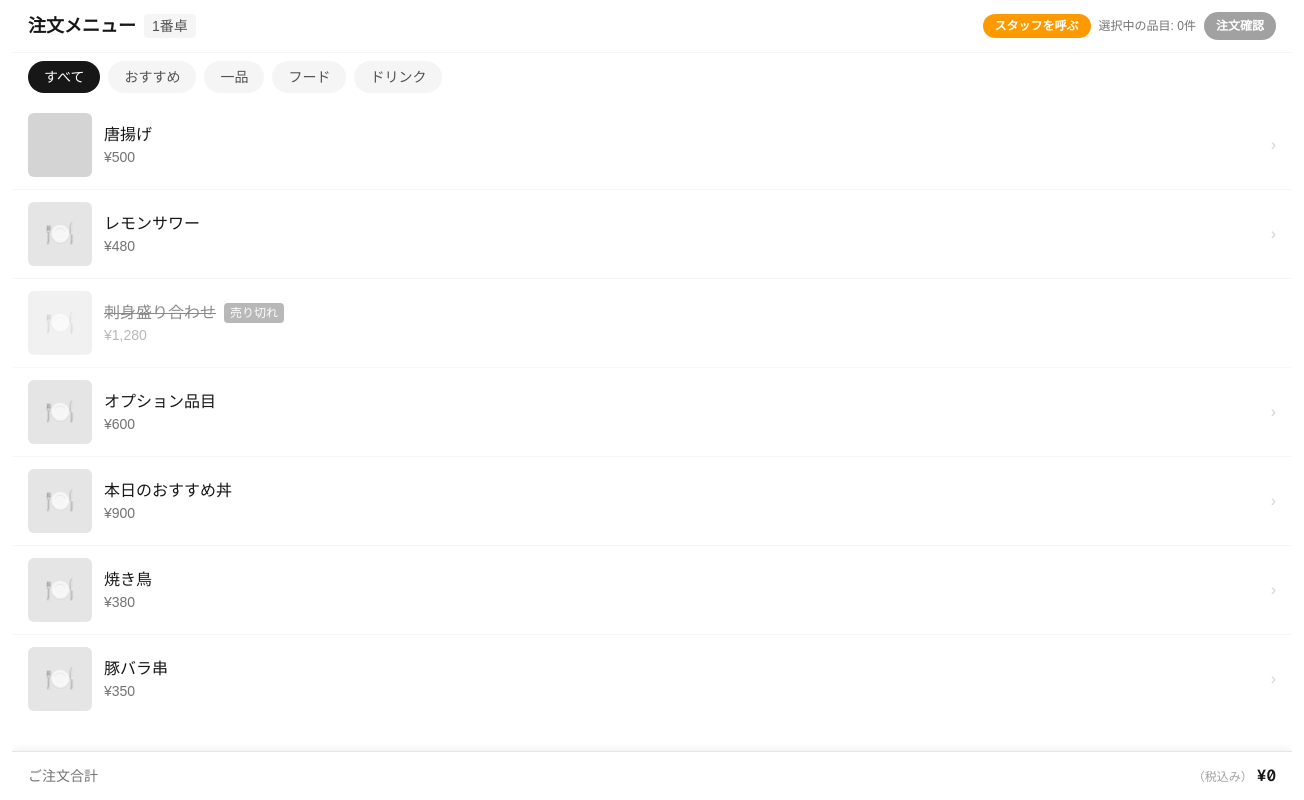
Test: MenuScreen › ジャンルタブで表示品目が絞り込まれる
Expected: the text "唐揚げ" is shown, [104,123,152,147]
Click the tab "一品".
click(234, 77)  # box [204,61,264,93]
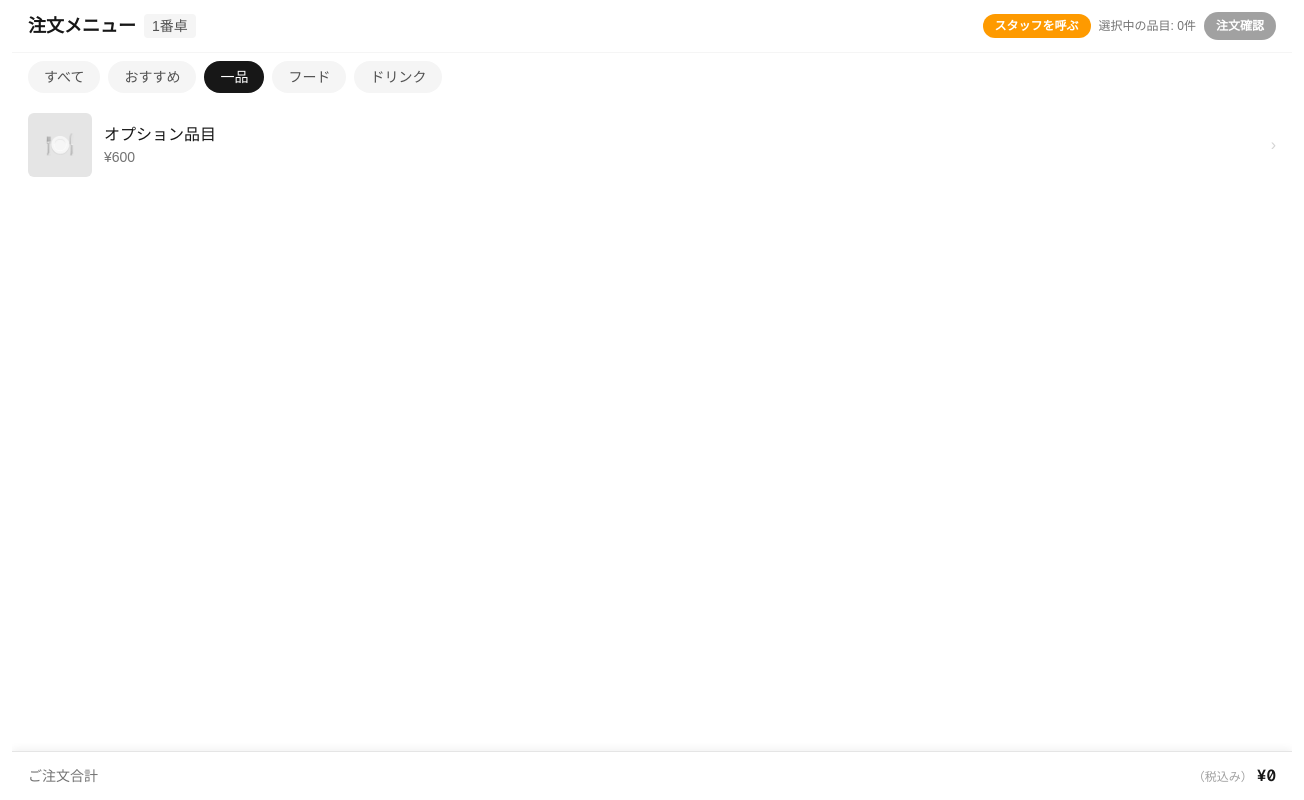
Expected: the button "唐揚げ" is gone
Expected: the button "レモンサワー" is gone
Expected: the button "刺身盛り合わせ" is gone
Click the tab "ドリンク".
click(398, 77)  # box [354,61,442,93]
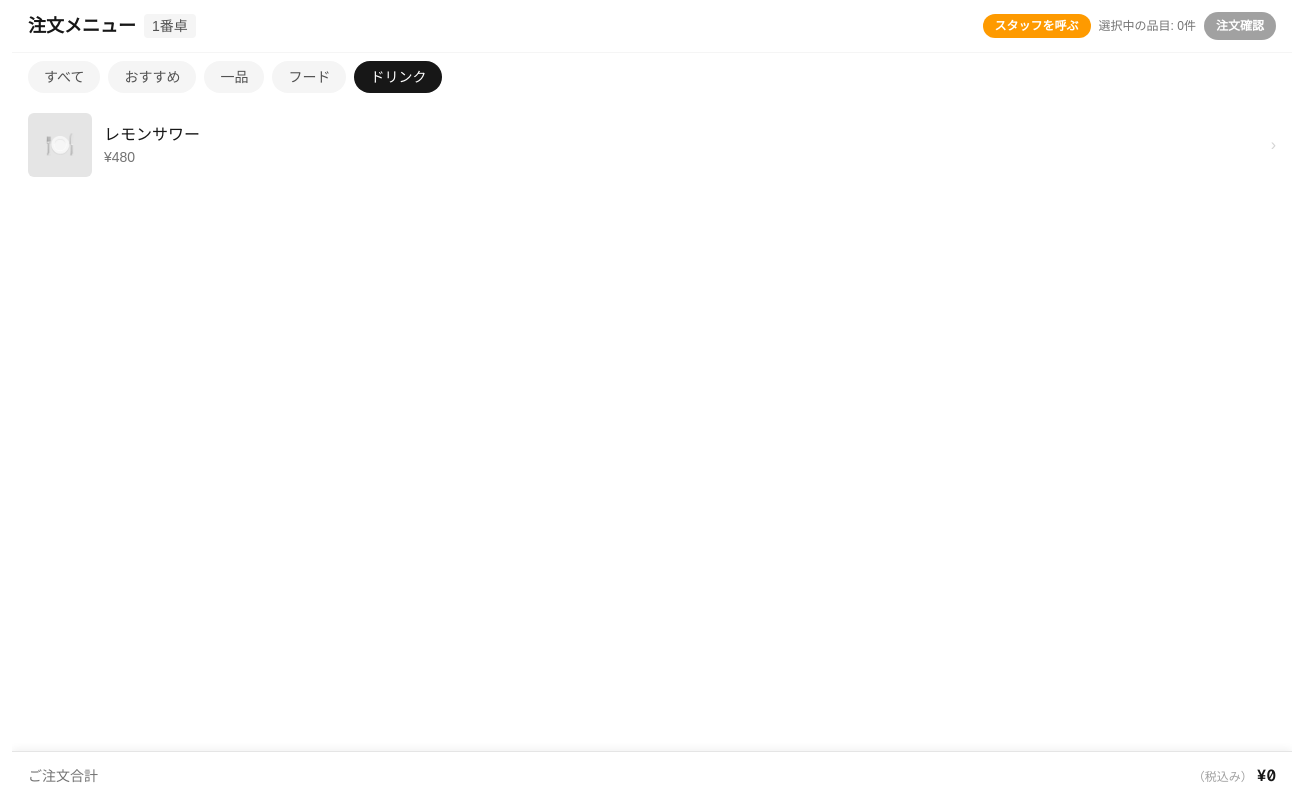
Expected: the text "レモンサワー" is shown, [104,123,200,147]
Expected: the button "オプション品目" is gone
Click the tab "すべて".
click(64, 77)  # box [28,61,100,93]
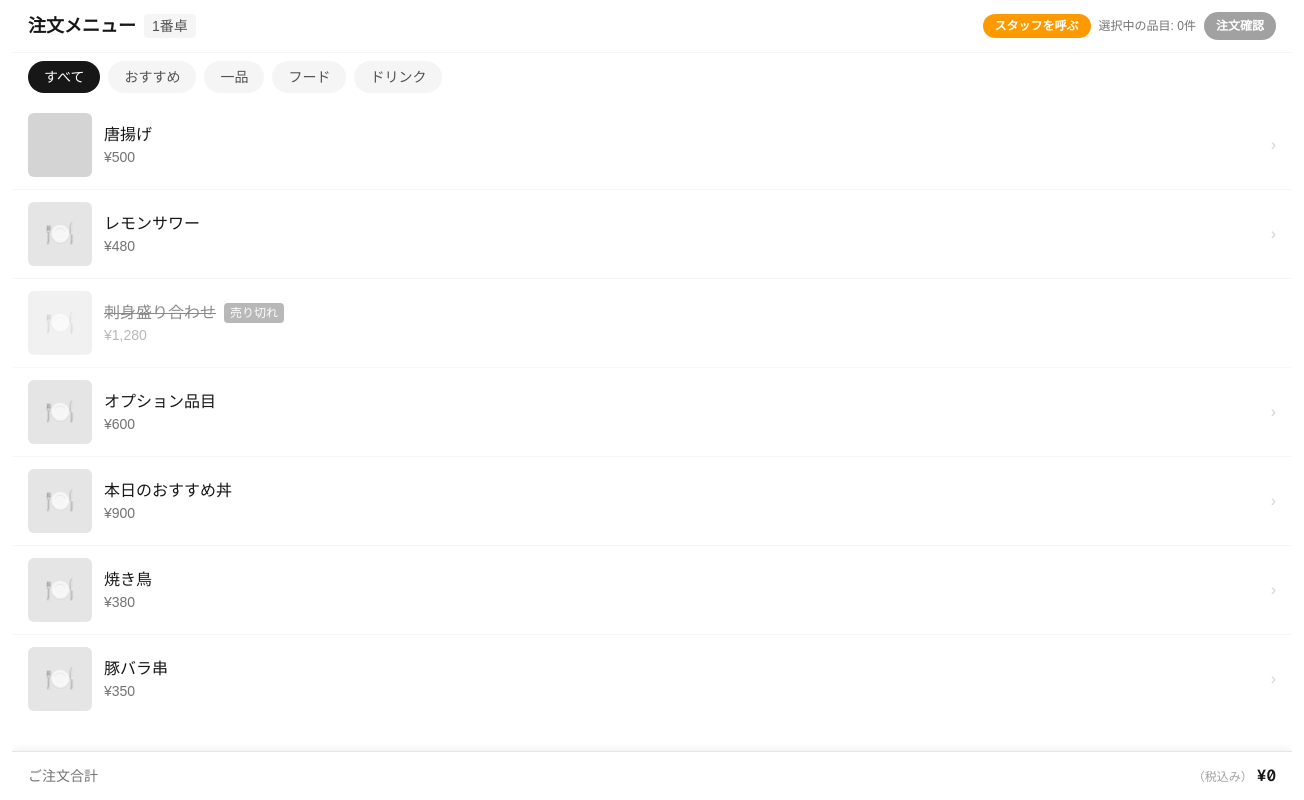
Expected: the text "レモンサワー" is shown, [104,212,200,236]
Expected: the text "唐揚げ" is shown, [104,123,152,147]
Expected: the text "オプション品目" is shown, [104,390,216,414]
